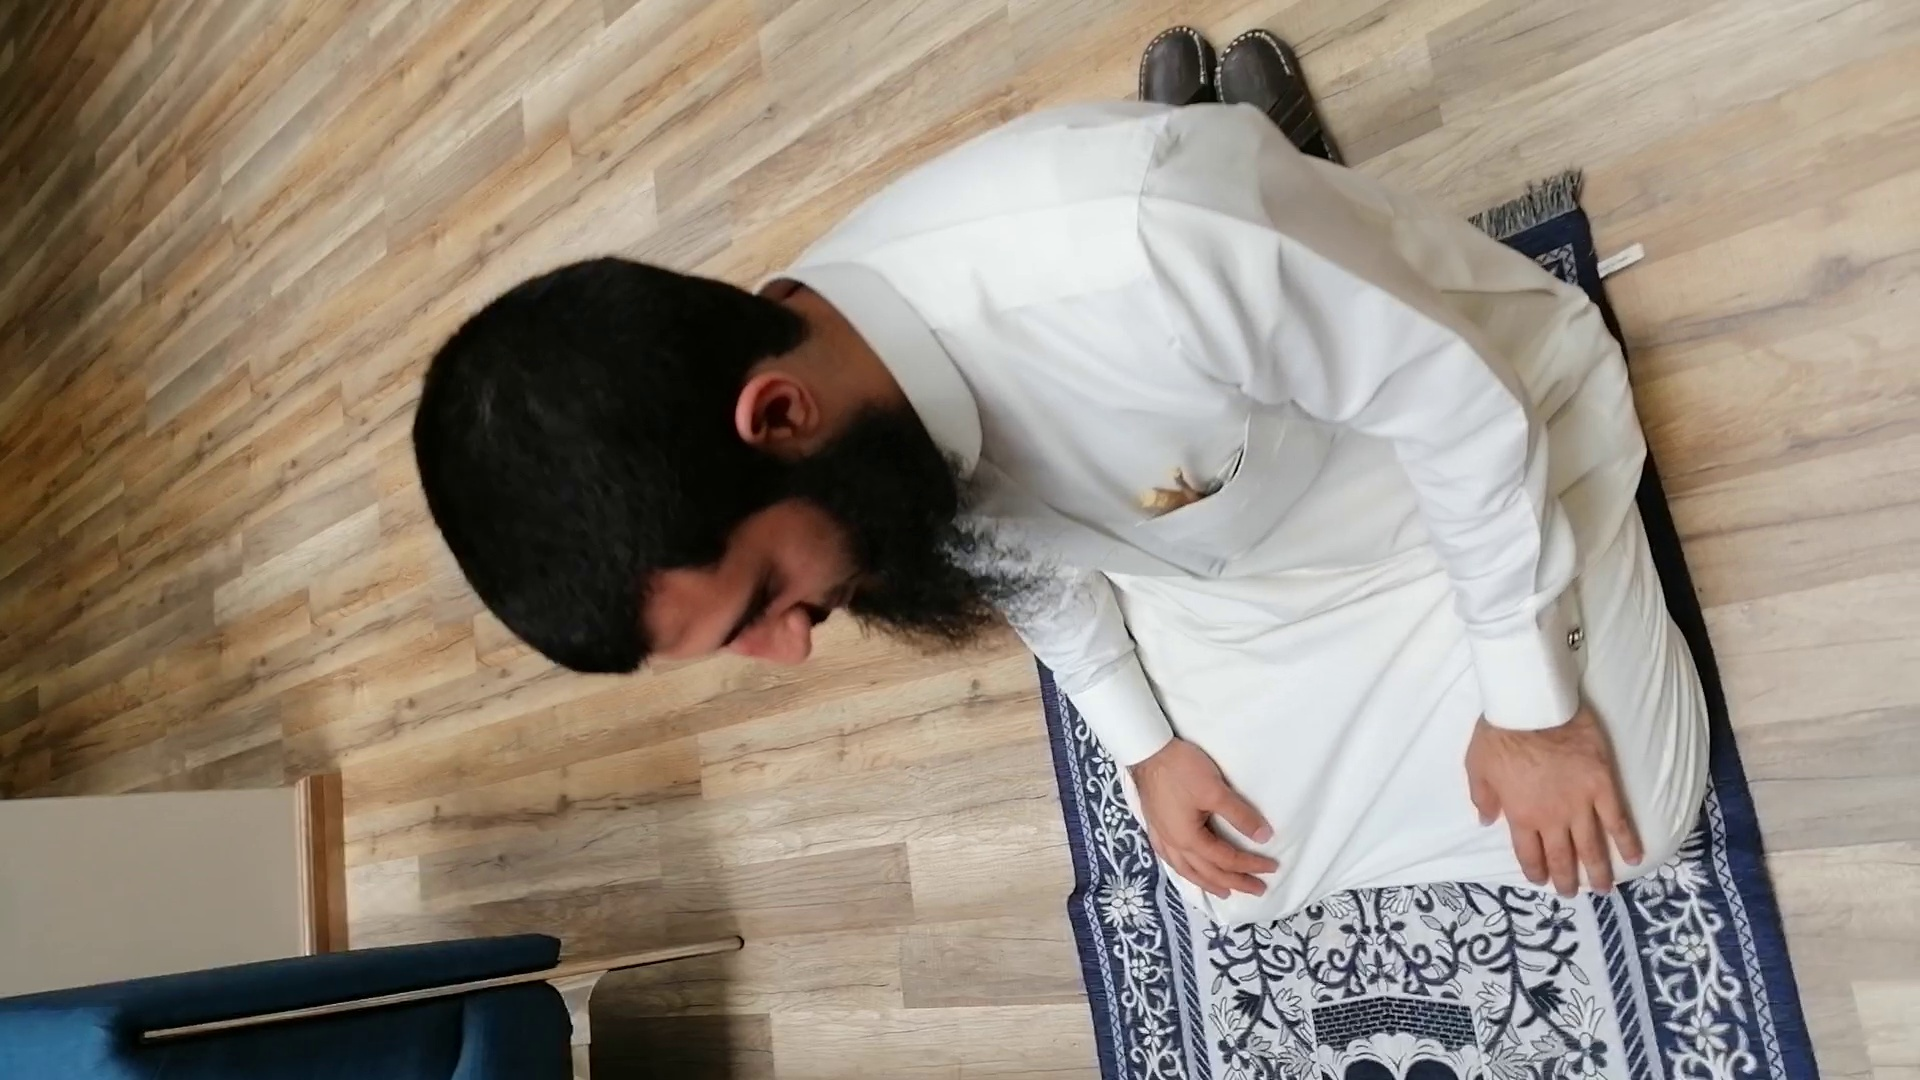sitting: (407, 73, 1774, 922)
